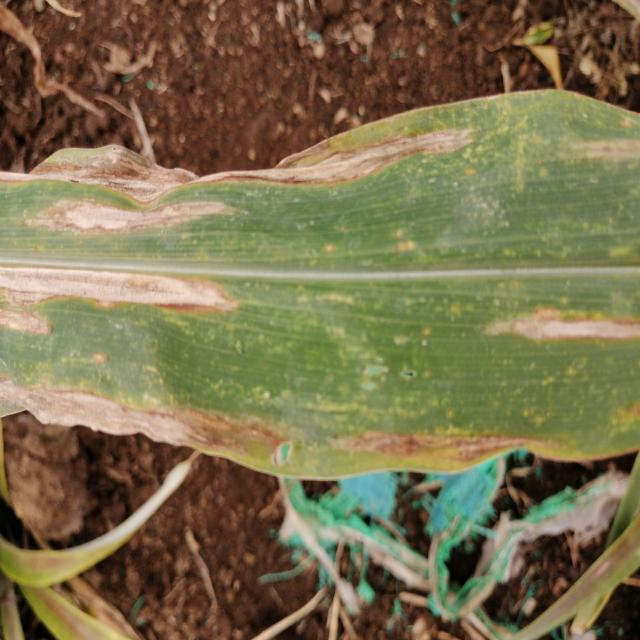Corn_Leaf_Blight: (0, 85, 640, 473)
